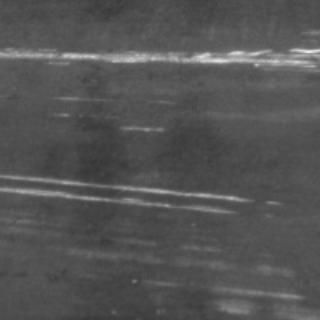scratches: (0, 38, 316, 78), (0, 168, 256, 216)
